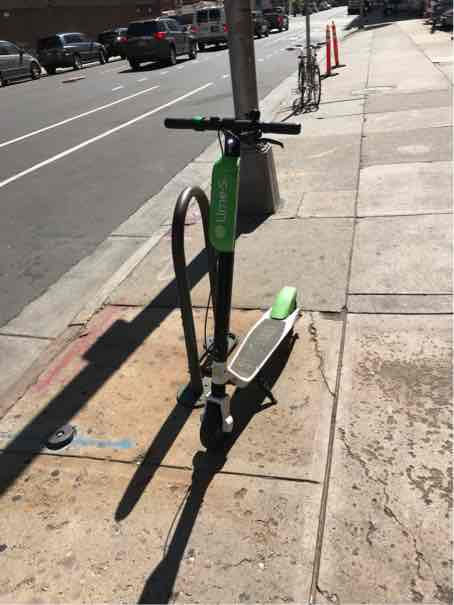scooter: (167, 106, 319, 466)
